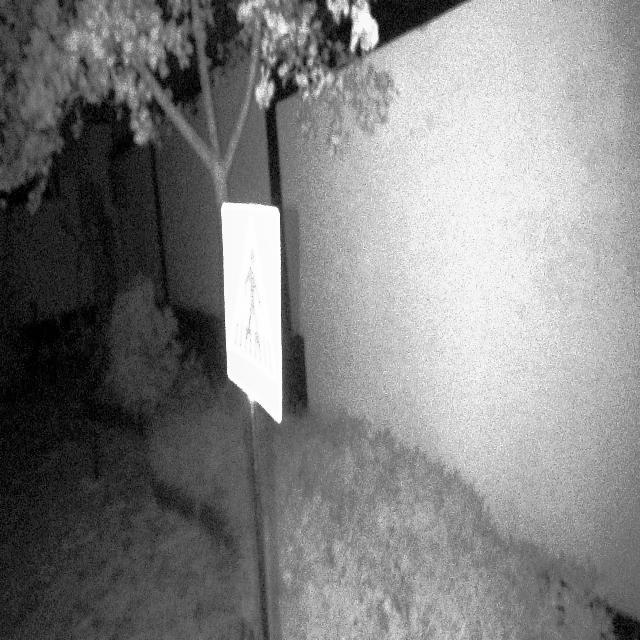Sign: (219, 198, 285, 428)
